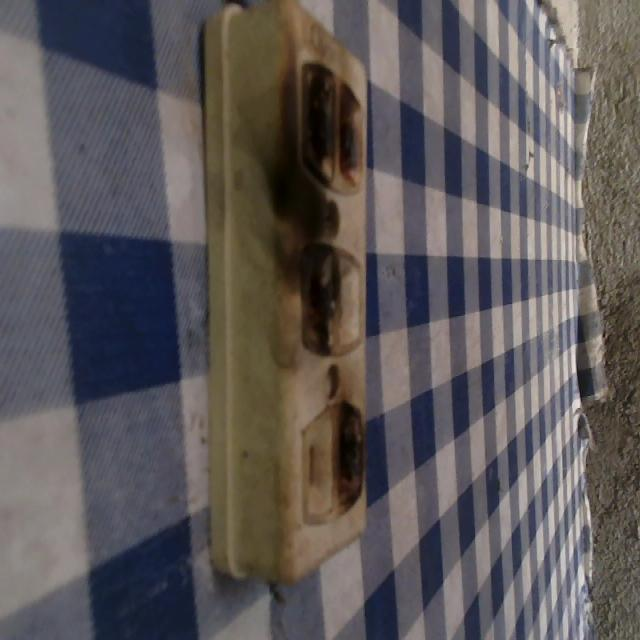-: (292, 52, 374, 203), (293, 236, 342, 365), (330, 392, 372, 512)
